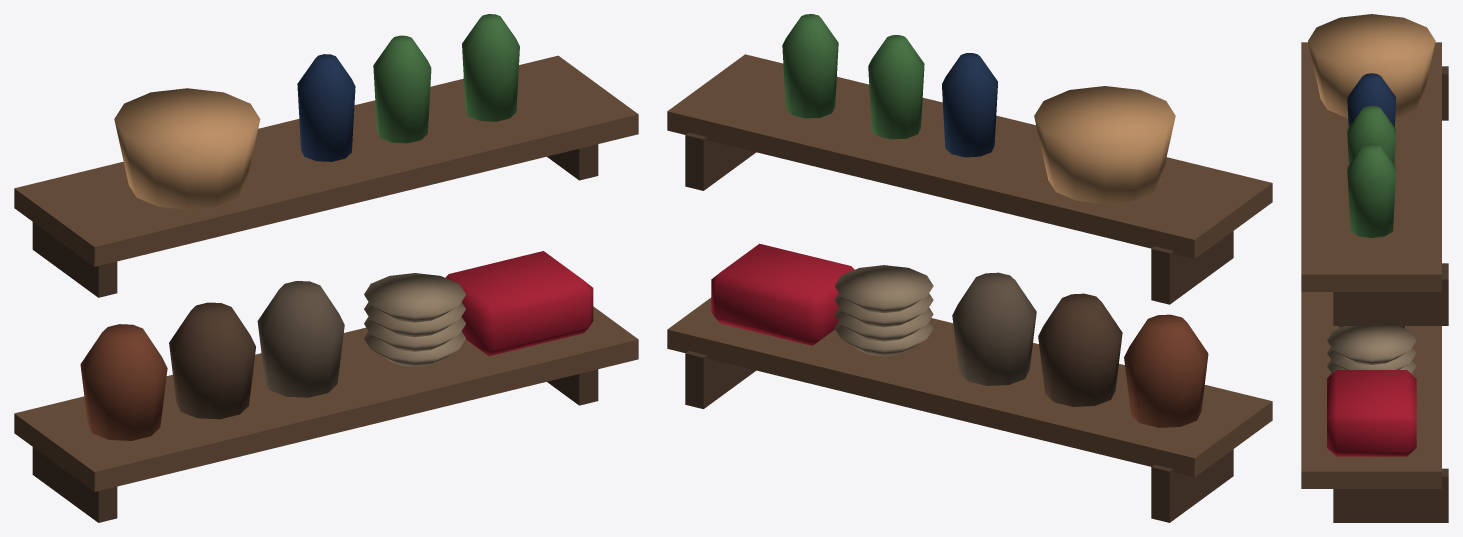
The model's file is shelf_goods.glb.
The picture shows the model from 3 angles, left to right: view 1: azimuth 30°, elevation 25°; view 2: azimuth 150°, elevation 25°; view 3: azimuth 270°, elevation 25°; orthographic projection. The views are drawn at different scales.
Visible parts, largest first — view 1: shelf_goods; view 2: shelf_goods; view 3: shelf_goods.
Boxes of the visible parts, x1=… form: shelf_goods: x1=14, y1=14, x2=638, y2=522; shelf_goods: x1=667, y1=14, x2=1272, y2=522; shelf_goods: x1=1301, y1=14, x2=1448, y2=522.
Bounding box in the file's own units: 0.86 × 0.585 × 0.23.
